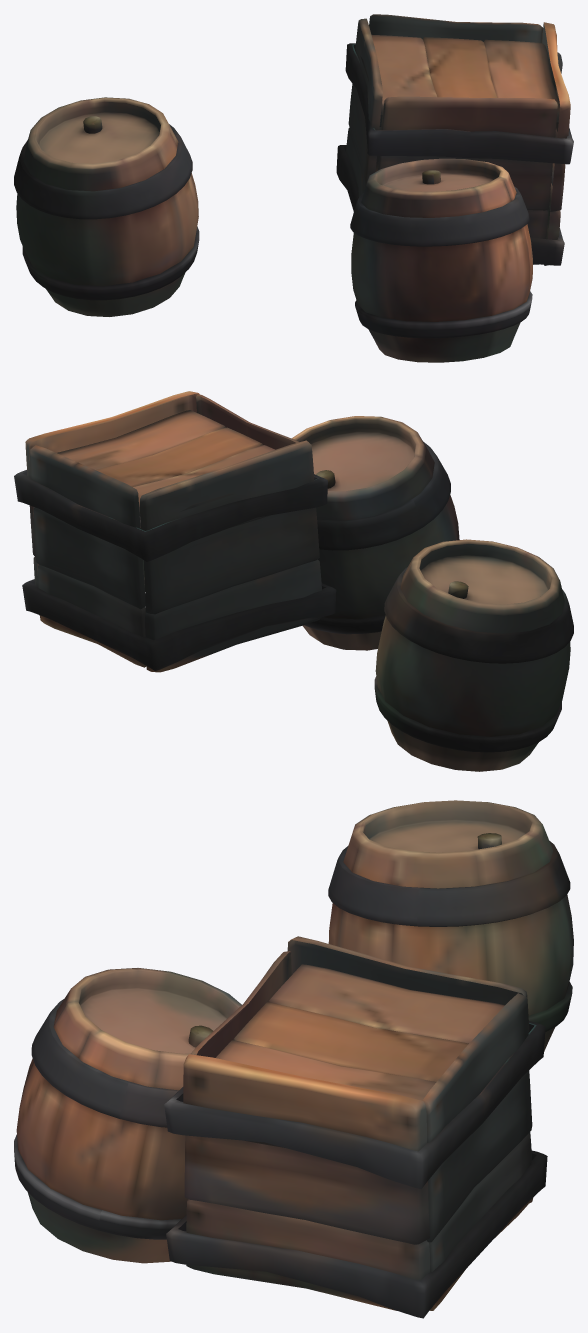
Rendered from Beach_Debris_4.glb.
The picture shows the model from 3 angles, top to bottom: view 1: azimuth 30°, elevation 25°; view 2: azimuth 150°, elevation 25°; view 3: azimuth 270°, elevation 25°; orthographic projection. The views are drawn at different scales.
Parts seen in each view (by area): view 1: Object_2.021; view 2: Object_2.021; view 3: Object_2.021.
Part boxes in pixels (x1,y1,x2,y2): Object_2.021: (14, 14, 573, 362); Object_2.021: (14, 391, 573, 771); Object_2.021: (14, 800, 573, 1318).
Bounding box in the file's own units: 20.59 × 8.21 × 14.12.
Materials: 1 (1 with a texture image).
